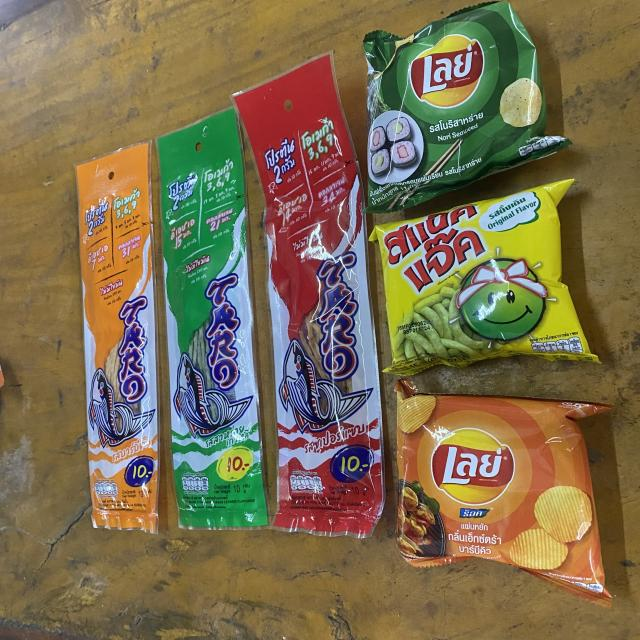plastik: (232, 54, 384, 538), (395, 379, 610, 606), (156, 108, 268, 529), (370, 179, 599, 374), (364, 1, 570, 212), (76, 144, 159, 532)
